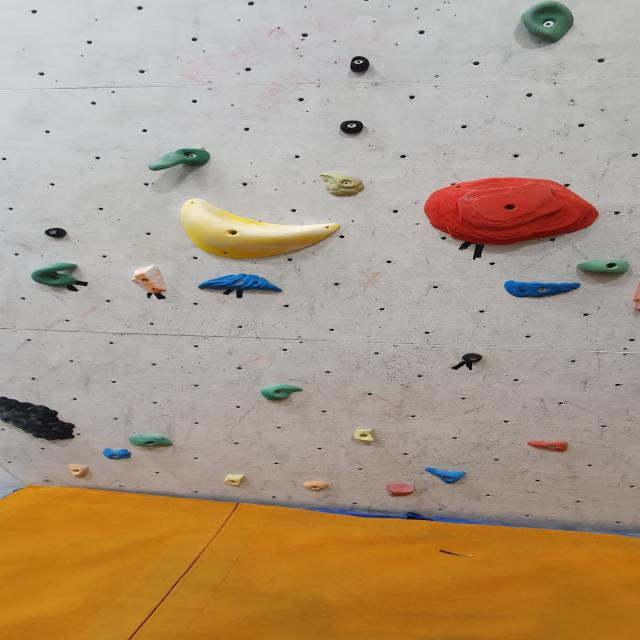Crimp: (422, 180, 600, 250), (502, 280, 587, 298), (197, 275, 286, 292), (320, 172, 368, 198), (259, 384, 307, 402), (424, 468, 469, 483), (523, 440, 572, 453), (102, 449, 134, 461), (220, 472, 247, 486), (354, 428, 375, 442)
Jug: (0, 401, 77, 443), (518, 2, 576, 44), (144, 149, 214, 172), (30, 264, 87, 290), (576, 260, 632, 277), (127, 433, 175, 447)
Pinch: (126, 266, 171, 293), (338, 120, 369, 136), (347, 57, 373, 75), (67, 465, 91, 481), (41, 226, 73, 236), (458, 353, 486, 364), (632, 279, 640, 306)
Sloper: (176, 198, 341, 263), (384, 482, 416, 498), (302, 481, 330, 493)
